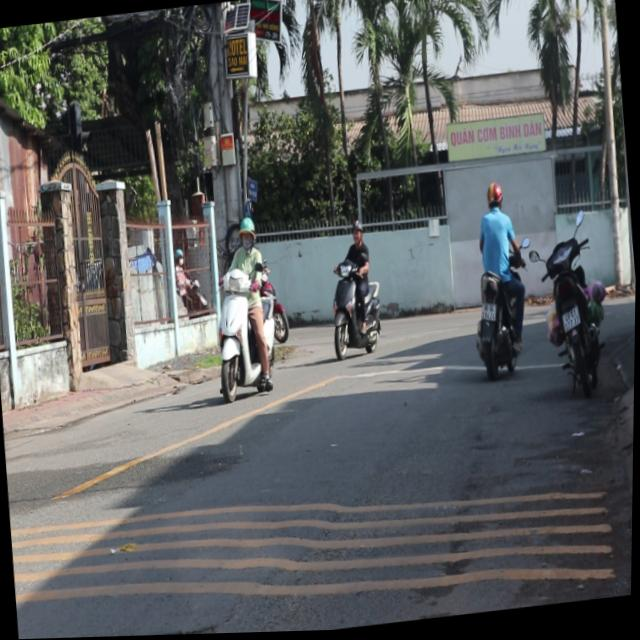helmet: (237, 216, 256, 249), (484, 183, 503, 212)
licenseplate: (201, 212, 283, 405), (461, 179, 532, 381)
nohelmet: (480, 304, 496, 323)
